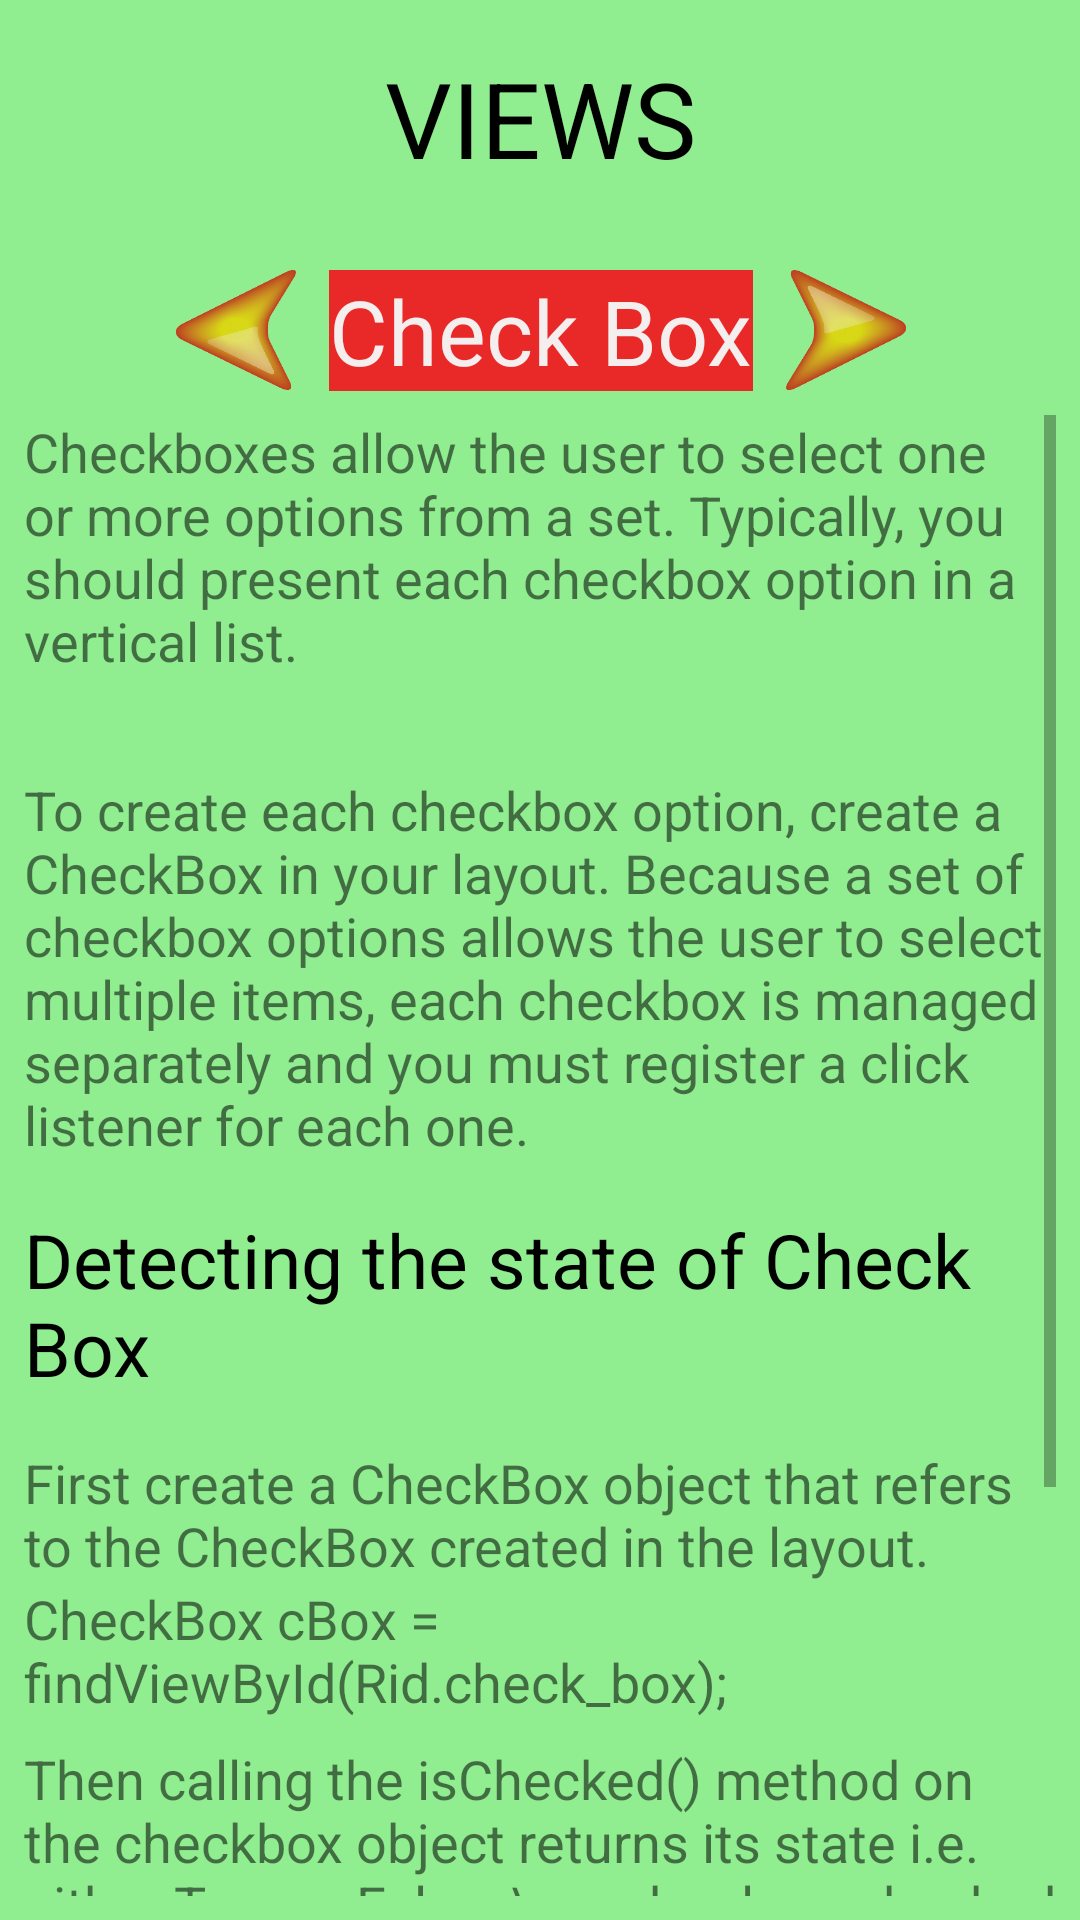

Screen size 1080px×1920px. Icon name, then its center in pixels as (x,y):
next: (846,330)
previous: (236,330)
